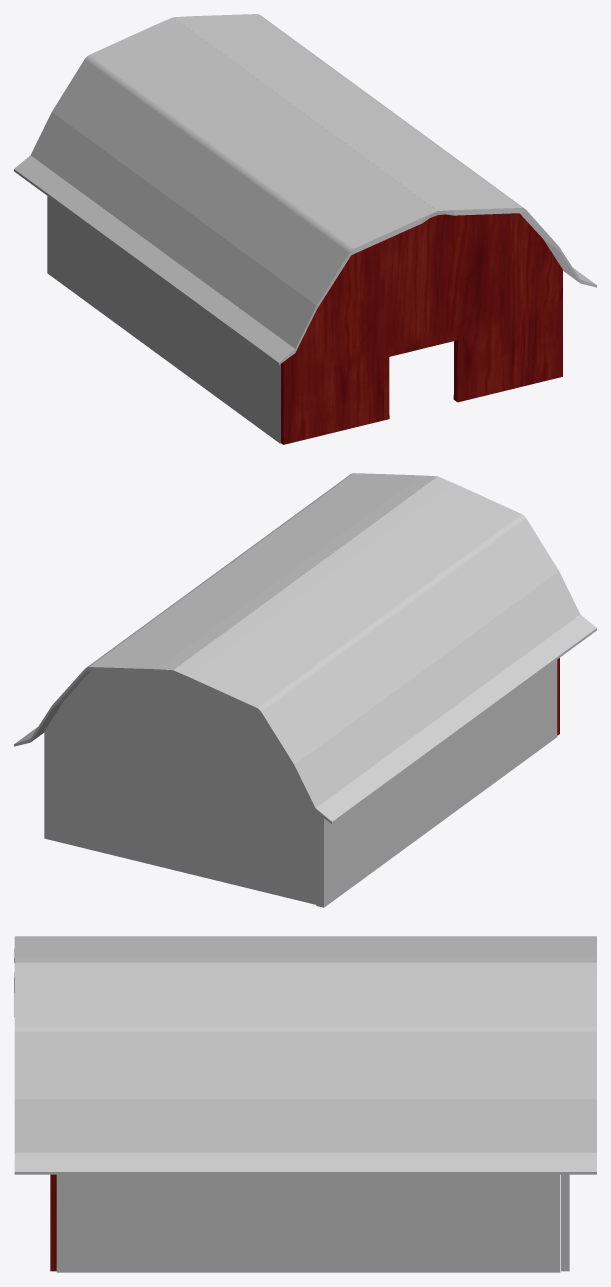
The model's file is granero_solo.obj.
The picture shows the model from 3 angles, top to bottom: view 1: azimuth 30°, elevation 25°; view 2: azimuth 150°, elevation 25°; view 3: azimuth 270°, elevation 25°; orthographic projection. The views are drawn at different scales.
Parts seen in each view (by area): view 1: Cube.106_Cube.002, Cube.174_Cube.097, Cube.176_Cube.105; view 2: Cube.106_Cube.002, Cube.175_Cube.102, Cube.176_Cube.105; view 3: Cube.106_Cube.002, Cube.177_Cube.111, Cube.175_Cube.102, Cube.174_Cube.097.
Boxes of the visible parts, bbox=[...] form: Cube.106_Cube.002: bbox=[14, 14, 596, 364]; Cube.174_Cube.097: bbox=[280, 213, 562, 444]; Cube.176_Cube.105: bbox=[47, 196, 280, 443]; Cube.106_Cube.002: bbox=[14, 473, 596, 823]; Cube.175_Cube.102: bbox=[44, 671, 323, 906]; Cube.176_Cube.105: bbox=[316, 660, 557, 907]; Cube.106_Cube.002: bbox=[14, 936, 596, 1174]; Cube.177_Cube.111: bbox=[56, 1174, 560, 1272]; Cube.175_Cube.102: bbox=[561, 1174, 569, 1271]; Cube.174_Cube.097: bbox=[50, 1174, 56, 1271].
Bounding box in the file's own units: 27.91 × 17.86 × 40.3.
